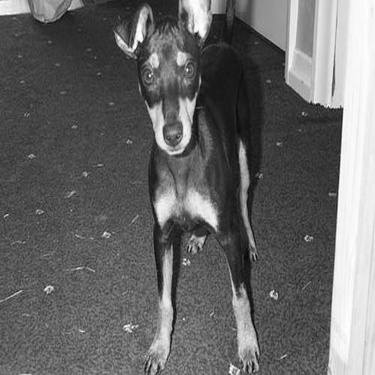dog: (98, 1, 278, 372)
